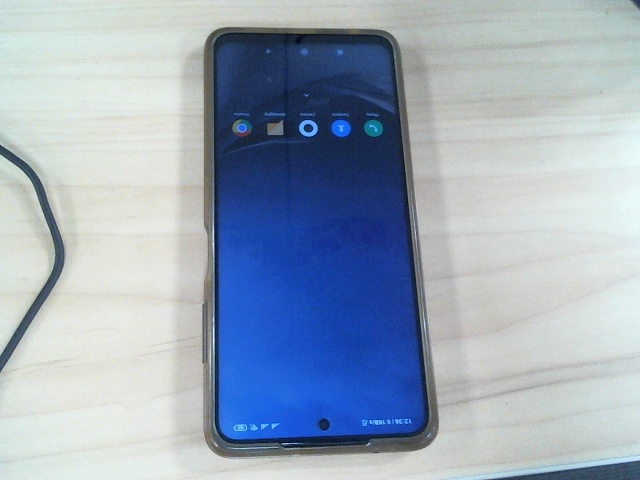handphone: (200, 26, 440, 458)
